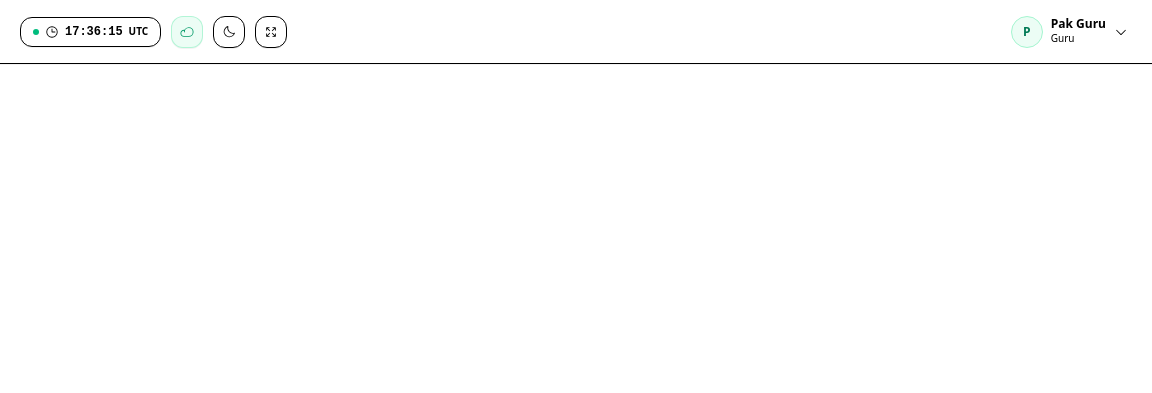
Scenario: Header Administrator UX & Navigation Affordance › allows syncing token claim from profile dropdown and shows success message when verified-admin
Click the button "P Pak Guru Guru": x=1069, y=32 [1007,12,1132,52]
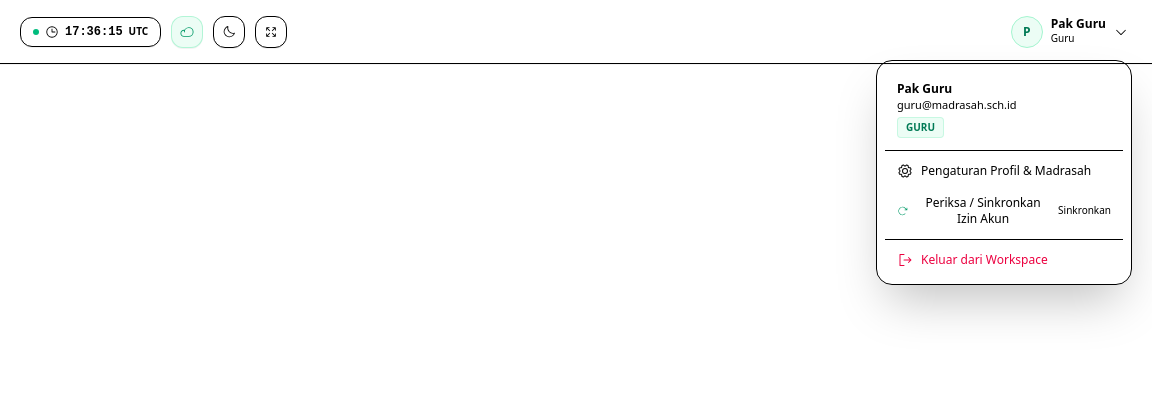
Check: the button "Periksa / Sinkronkan Izin Akun Sinkronkan" is shown
Click the button "Periksa / Sinkronkan Izin Akun Sinkronkan": x=1004, y=211 [885,187,1123,235]
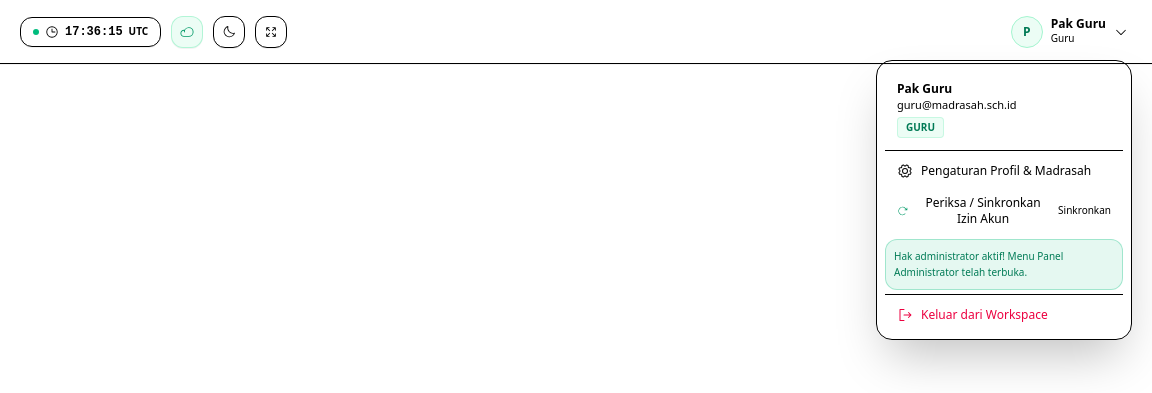
Check: the text "Hak administrator aktif! Menu Panel Administrator telah terbuka." is shown, box [885,239,1123,290]
